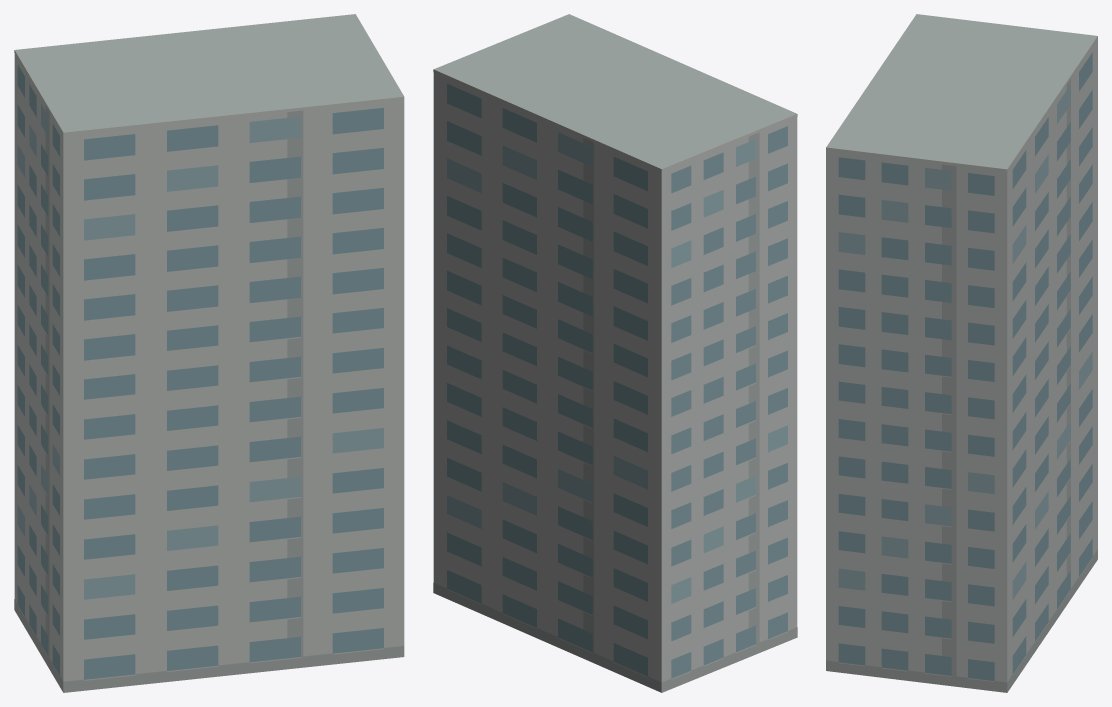
File: residential-dfe86d79-9d4d-4807-abe8-08690afa4373.glb
3 views of the same model, side by side, from view 1: azimuth 30°, elevation 25°; view 2: azimuth 150°, elevation 25°; view 3: azimuth 270°, elevation 25° (orthographic). The views are drawn at different scales.
Parts seen in each view (by area): view 1: residential-dfe86d79-9d4d-4807-abe8-08690afa4373.tmp; view 2: residential-dfe86d79-9d4d-4807-abe8-08690afa4373.tmp; view 3: residential-dfe86d79-9d4d-4807-abe8-08690afa4373.tmp.
Part boxes in pixels (x1=…): residential-dfe86d79-9d4d-4807-abe8-08690afa4373.tmp: x1=14, y1=14, x2=404, y2=692; residential-dfe86d79-9d4d-4807-abe8-08690afa4373.tmp: x1=433, y1=14, x2=797, y2=692; residential-dfe86d79-9d4d-4807-abe8-08690afa4373.tmp: x1=826, y1=14, x2=1097, y2=692.
Bounding box in the file's own units: 28.66 × 45 × 21.18.
